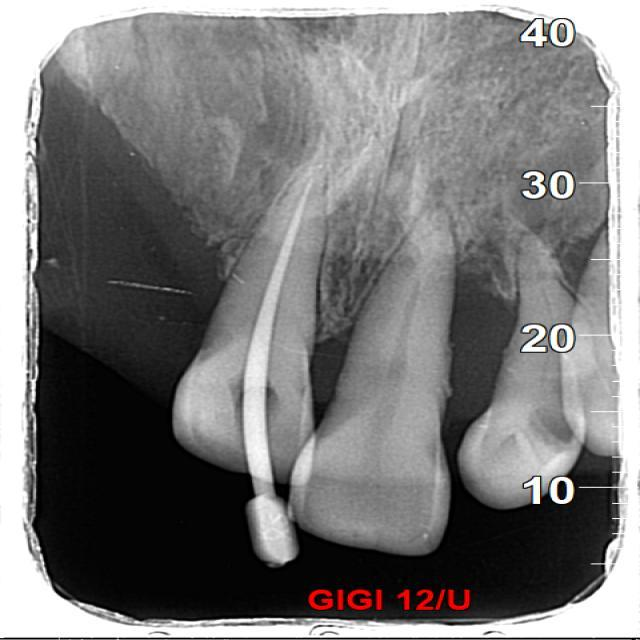individual-tooth-8tto: (284, 212, 456, 558), (168, 151, 323, 482)
